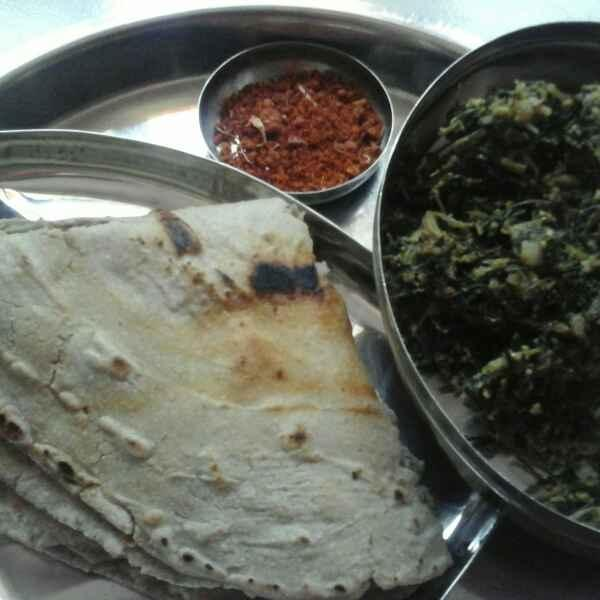bhakri: (6, 194, 447, 600)
